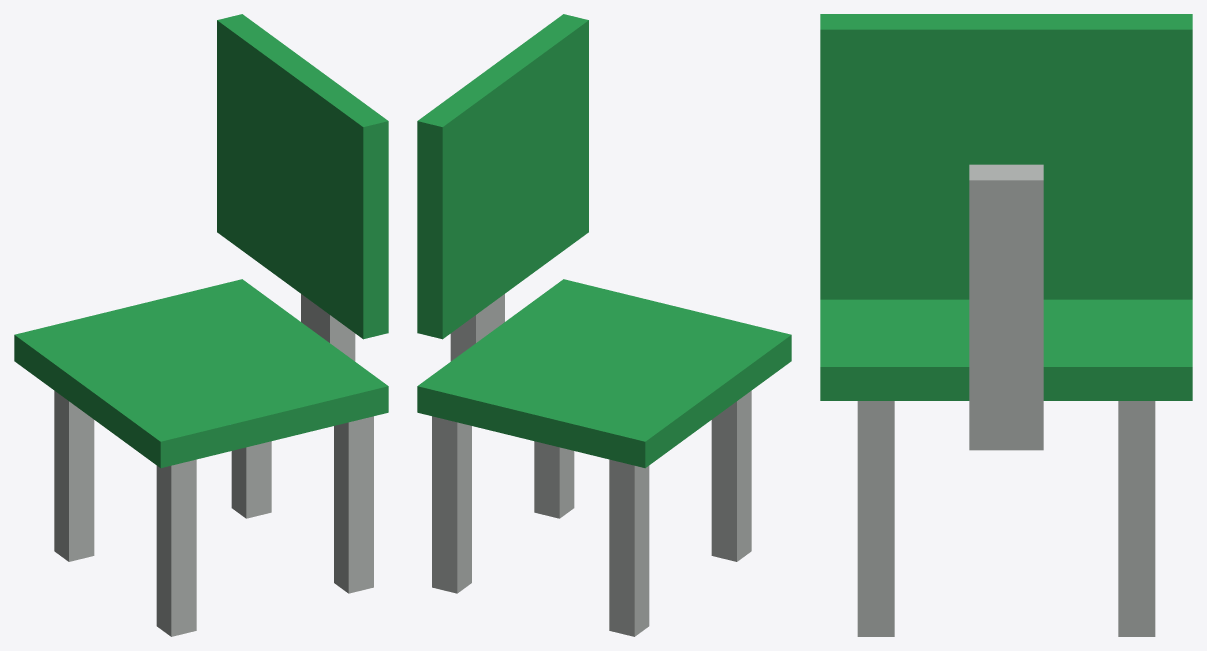
The model's file is chair.obj.
3 views of the same model, side by side, from view 1: azimuth 30°, elevation 25°; view 2: azimuth 150°, elevation 25°; view 3: azimuth 270°, elevation 25° (orthographic). The views are drawn at different scales.
Visible parts, largest first — view 1: cube; view 2: cube; view 3: cube.
Part boxes in pixels (x1,y1,x2,y2): cube: (14, 14, 388, 636); cube: (417, 14, 791, 636); cube: (820, 14, 1192, 636).
Size of the model in its own units: 0.625 by 1.12 by 0.625.
